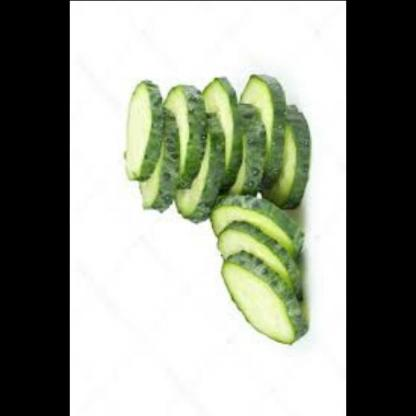cucumber: (115, 68, 316, 230), (202, 196, 306, 350)
